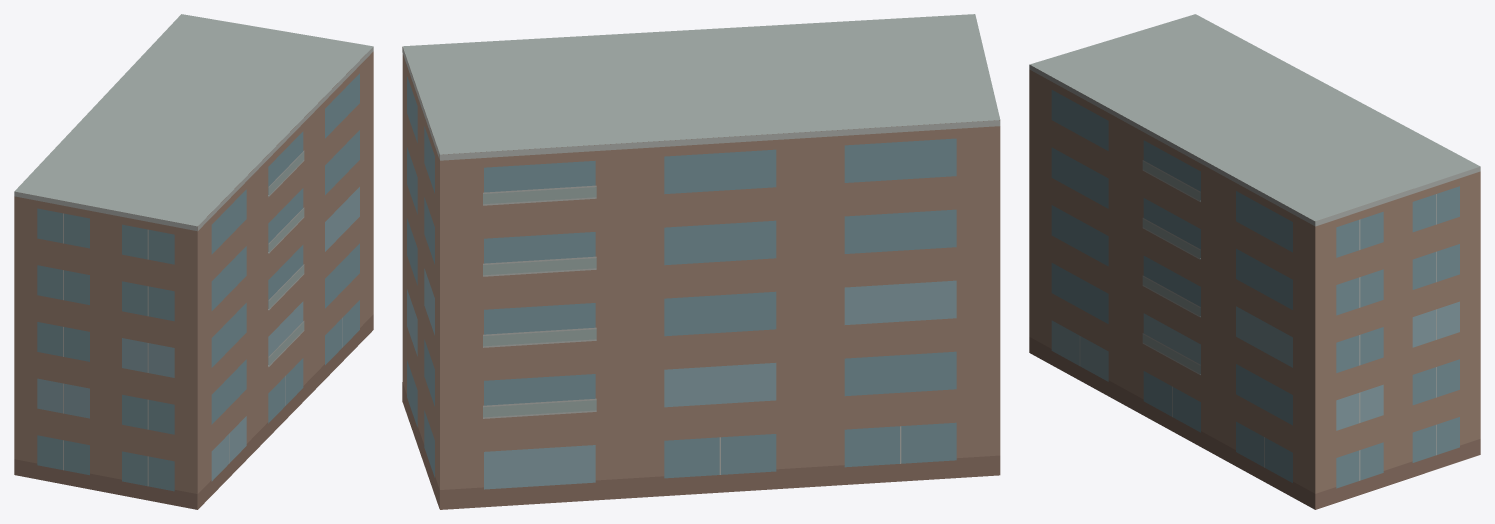
File: survey-upis-32606061.glb
3 renders of one model, left to right at view 1: azimuth 30°, elevation 25°; view 2: azimuth 150°, elevation 25°; view 3: azimuth 270°, elevation 25°, orthographic. The views are drawn at different scales.
Parts seen in each view (by area): view 1: survey-upis-32606061.tmp; view 2: survey-upis-32606061.tmp; view 3: survey-upis-32606061.tmp.
Part boxes in pixels (left/top/right/bottom): survey-upis-32606061.tmp: left=14, top=14, right=373, bottom=509; survey-upis-32606061.tmp: left=402, top=14, right=1000, bottom=509; survey-upis-32606061.tmp: left=1029, top=14, right=1480, bottom=509.
Size of the model in its own units: 22.01 by 14.25 by 20.21.
